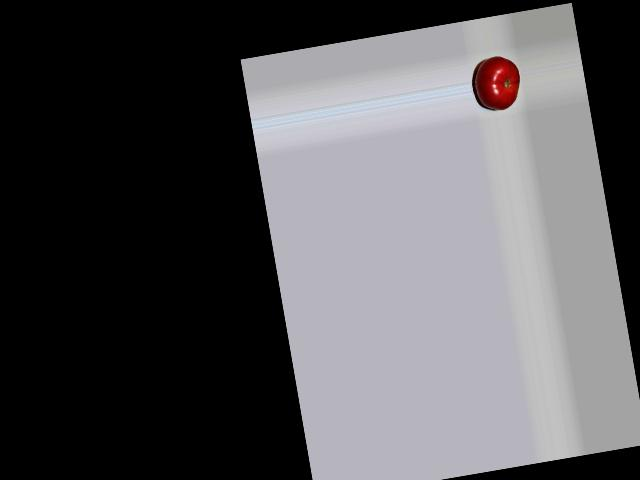tomato: (471, 52, 524, 113)
